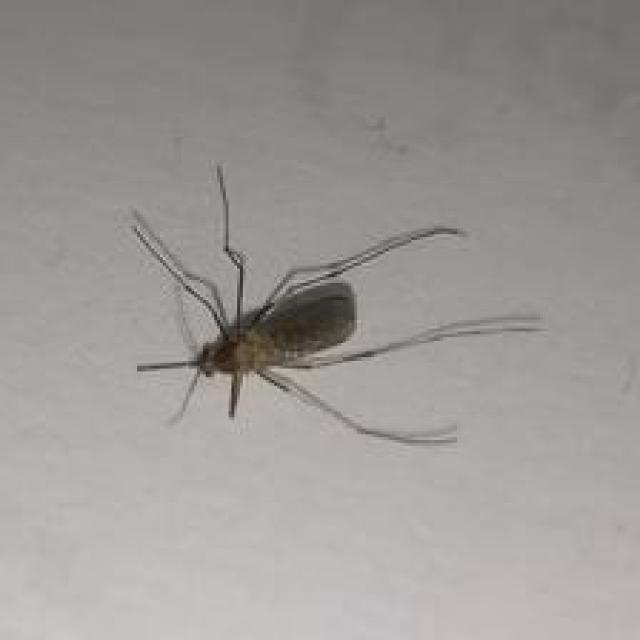Culex: (127, 162, 547, 447)
